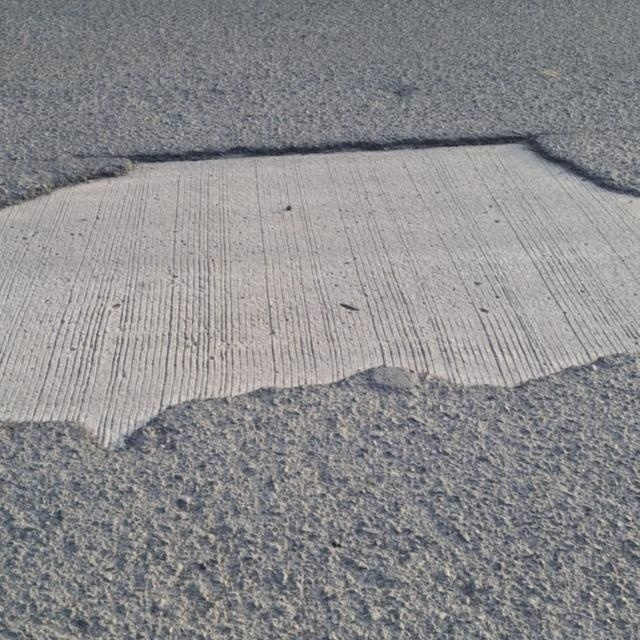pothole: (0, 37, 635, 544)
